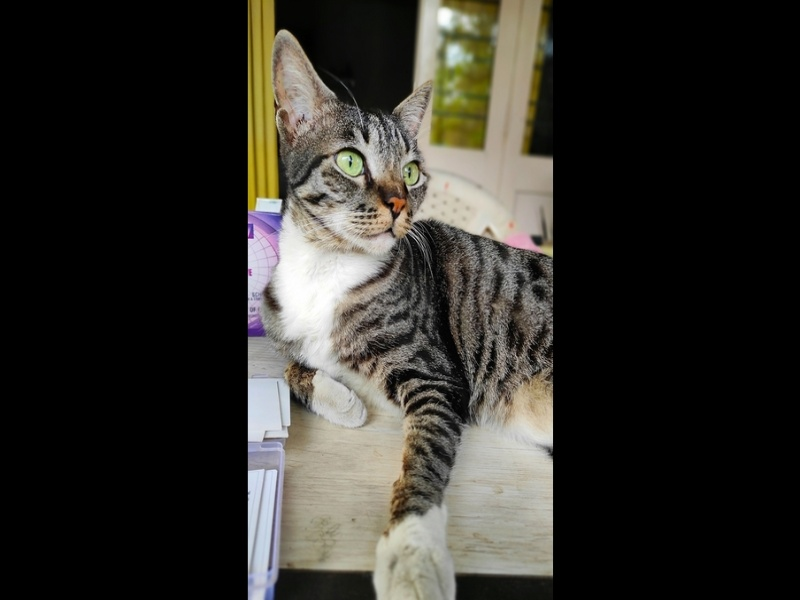cat: (263, 26, 549, 596)
